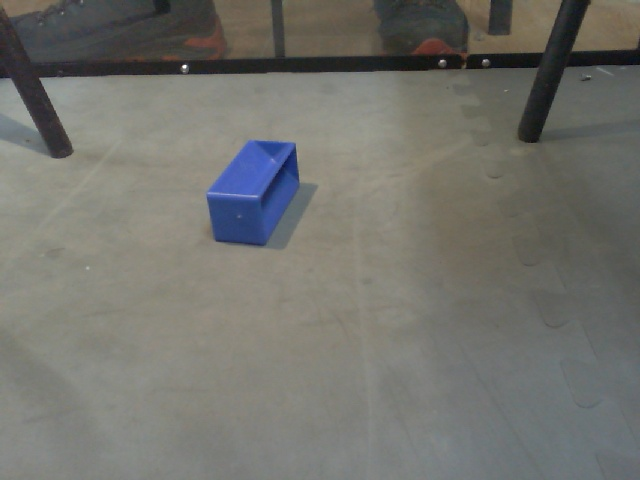BlueSample: (203, 139, 303, 250)
